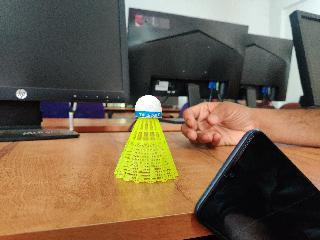shuttlecock: (113, 95, 177, 183)
